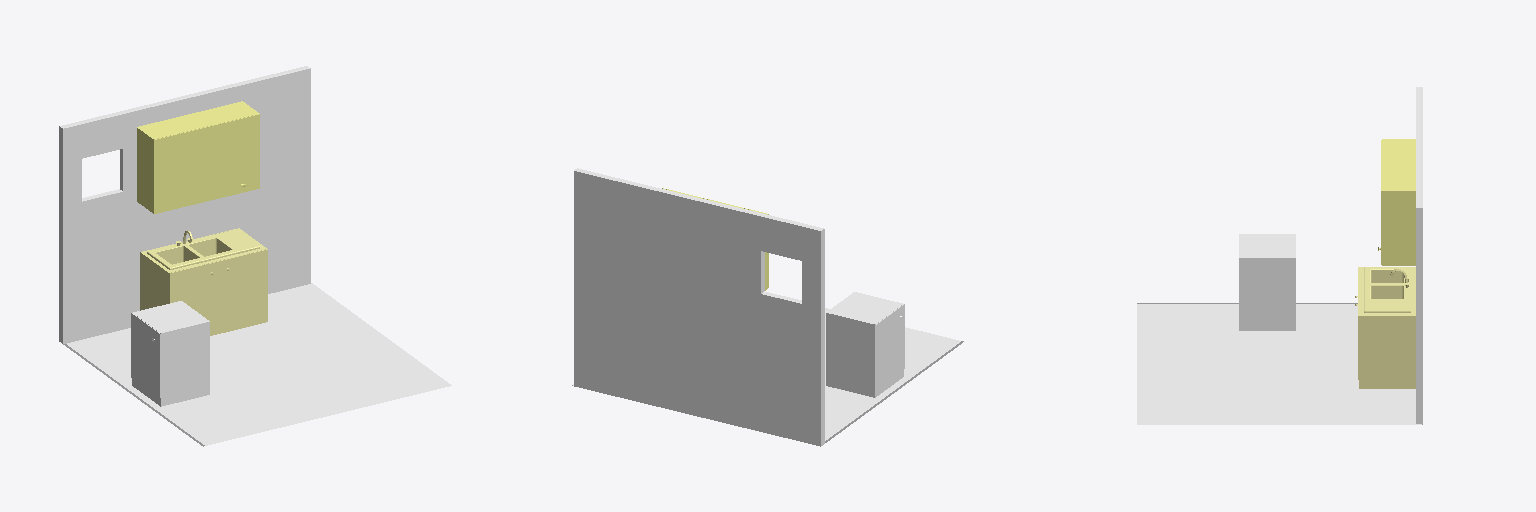
File: CocinaIzquierda.obj
3 views of the same model, side by side, from view 1: azimuth 30°, elevation 25°; view 2: azimuth 150°, elevation 25°; view 3: azimuth 270°, elevation 25° (orthographic).
Parts seen in each view (by area): view 1: wall_1_5, room_2_8, sweethome3d_opening_on_hinge_1_door_28, Corps_31, sweethome3d_opening_on_hinge_2_door_25, Corps_26, sweethome3d_opening_on_hinge_1_door_21, Meuble_13, sweethome3d_opening_on_hinge_1_door_33, Evier_41_15, Evier_14; view 2: wall_1_4, Corps_31, room_2_8, sweethome3d_opening_on_hinge_1_door_33; view 3: room_2_8, Corps_31, Meuble_13, Corps_26, Evier_41_15, Evier_14, wall_1_5, wall_1_4.
Part boxes in pixels (bbox=[...]): wall_1_5: bbox=[61, 68, 310, 343]; room_2_8: bbox=[67, 283, 451, 445]; sweethome3d_opening_on_hinge_1_door_28: bbox=[154, 114, 259, 213]; Corps_31: bbox=[132, 301, 209, 406]; sweethome3d_opening_on_hinge_2_door_25: bbox=[219, 249, 267, 325]; Corps_26: bbox=[137, 101, 259, 213]; sweethome3d_opening_on_hinge_1_door_21: bbox=[169, 261, 218, 327]; Meuble_13: bbox=[140, 228, 267, 335]; sweethome3d_opening_on_hinge_1_door_33: bbox=[131, 313, 160, 397]; Evier_41_15: bbox=[147, 230, 259, 269]; Evier_14: bbox=[148, 229, 258, 267]; wall_1_4: bbox=[574, 171, 822, 446]; Corps_31: bbox=[826, 292, 903, 397]; room_2_8: bbox=[573, 308, 960, 440]; sweethome3d_opening_on_hinge_1_door_33: bbox=[876, 304, 904, 388]; room_2_8: bbox=[1137, 304, 1421, 424]; Corps_31: bbox=[1239, 234, 1295, 330]; Meuble_13: bbox=[1359, 267, 1415, 388]; Corps_26: bbox=[1382, 139, 1415, 265]; Evier_41_15: bbox=[1364, 267, 1410, 312]; Evier_14: bbox=[1365, 267, 1410, 310]; wall_1_5: bbox=[1416, 208, 1419, 423]; wall_1_4: bbox=[1420, 208, 1422, 423].
Size of the model in its own units: 303 by 250 by 301.